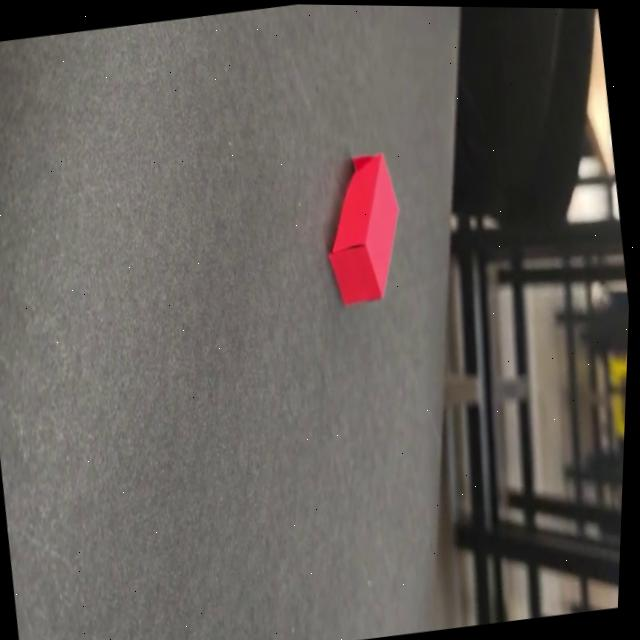red block: (312, 150, 414, 310)
